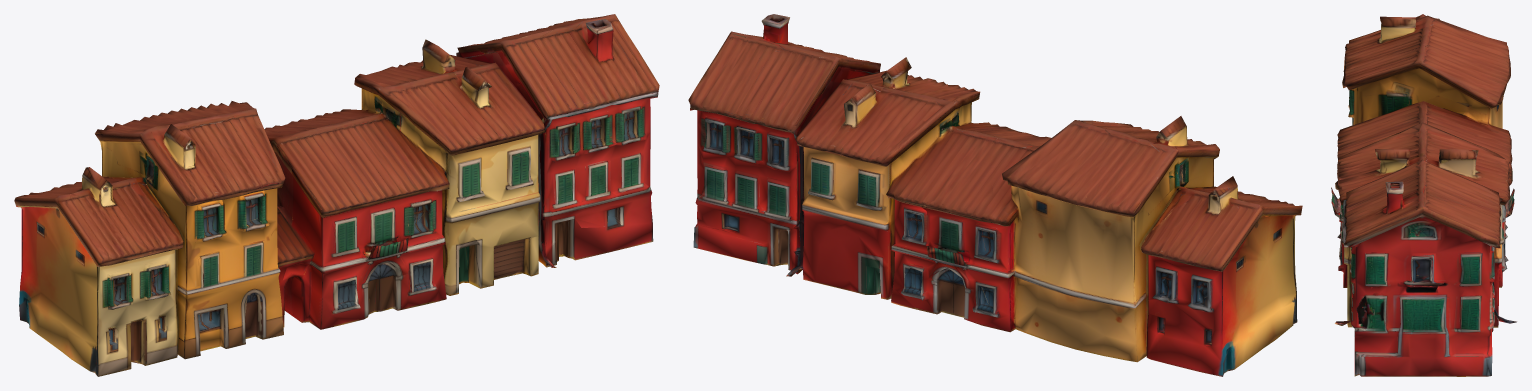
Rendered from House_of_Reduced.glb.
The picture shows the model from 3 angles, left to right: view 1: azimuth 30°, elevation 25°; view 2: azimuth 150°, elevation 25°; view 3: azimuth 270°, elevation 25°; orthographic projection. The views are drawn at different scales.
Bounding box in the file's own units: 1.9 × 0.6799 × 0.64.
Materials: 1 (1 with a texture image).
